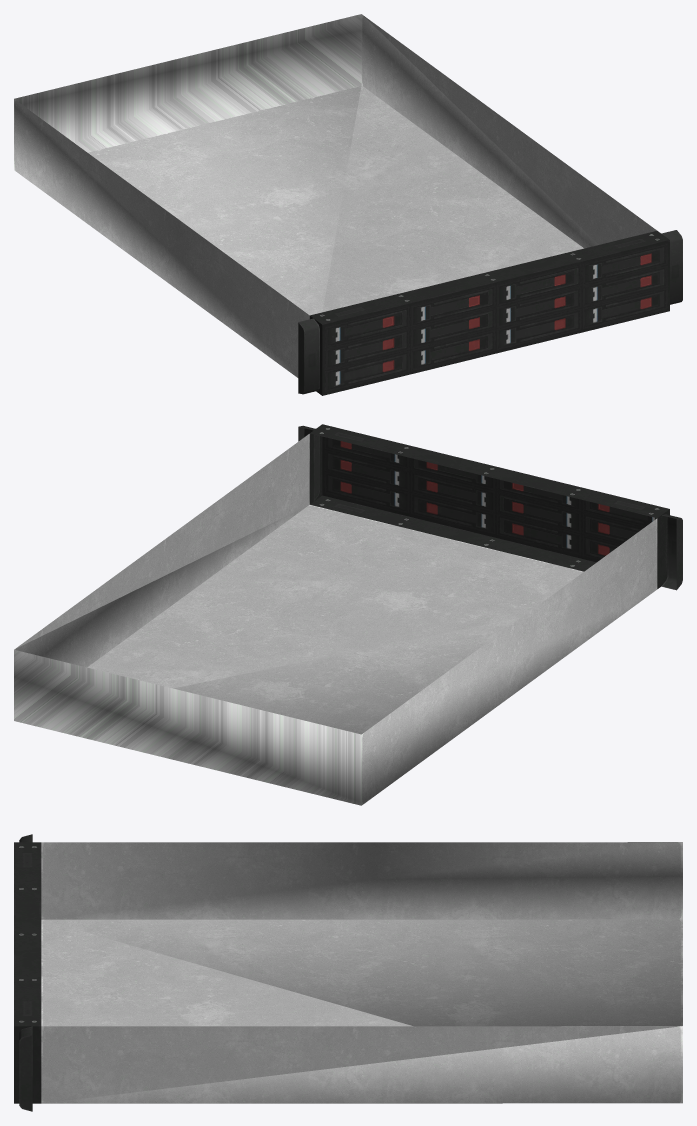
The model's file is serverbox1.fbx.
The picture shows the model from 3 angles, top to bottom: view 1: azimuth 30°, elevation 25°; view 2: azimuth 150°, elevation 25°; view 3: azimuth 270°, elevation 25°; orthographic projection. The views are drawn at different scales.
Parts seen in each view (by area): view 1: SM_Servers_2_001; view 2: SM_Servers_2_001; view 3: SM_Servers_2_001.
Boxes of the visible parts, <box> form: SM_Servers_2_001: <box>14,14,682,395</box>; SM_Servers_2_001: <box>14,424,682,805</box>; SM_Servers_2_001: <box>14,834,682,1111</box>.
Size of the model in its own units: 48.52 by 8.75 by 68.46.
